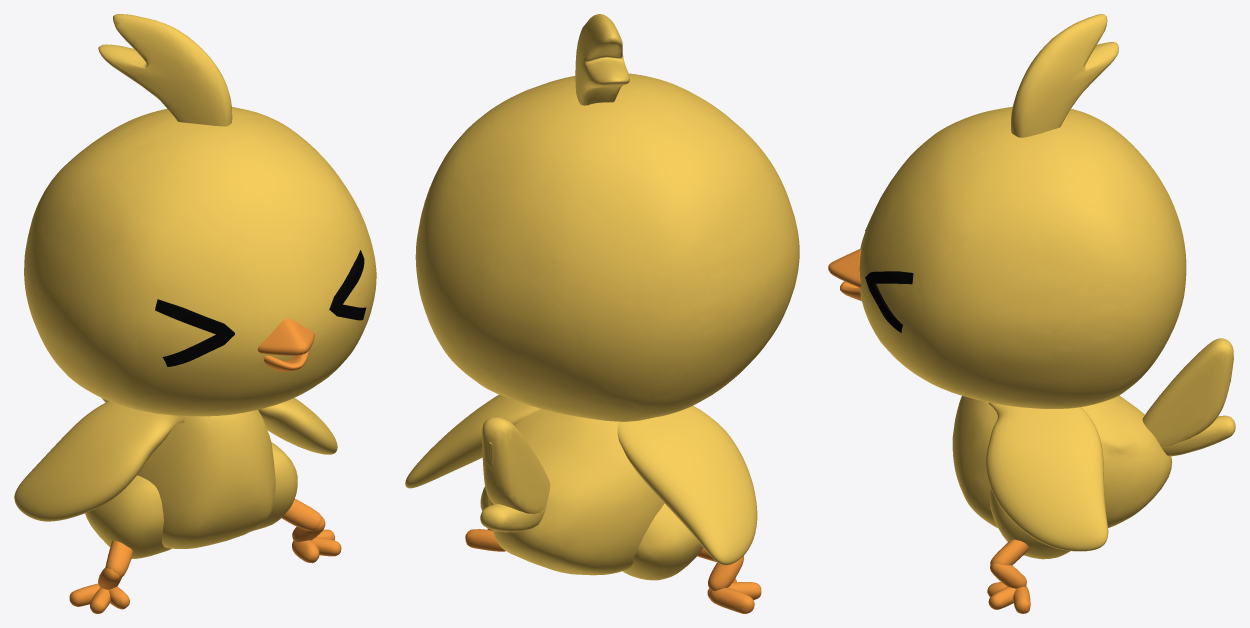
The model's file is piyokichi.glb.
3 renders of one model, left to right at view 1: azimuth 30°, elevation 25°; view 2: azimuth 150°, elevation 25°; view 3: azimuth 270°, elevation 25°, orthographic. The views are drawn at different scales.
Visible parts, largest first — view 1: Head, Body, Wing_L, Leg_L, Leg_R, Wing_R; view 2: Head, Body, Wing_L, Leg_L, Wing_R, Leg_R; view 3: Head, Body, Wing_R, Leg_R.
Boxes of the visible parts, x1,y1,x2,y2 form: Head: [24, 14, 376, 416]; Body: [102, 398, 275, 548]; Wing_L: [14, 401, 184, 521]; Leg_L: [69, 475, 171, 613]; Leg_R: [253, 442, 341, 563]; Wing_R: [258, 398, 337, 454]; Head: [415, 14, 799, 421]; Body: [480, 409, 664, 575]; Wing_L: [617, 406, 757, 565]; Leg_L: [622, 503, 761, 613]; Wing_R: [405, 394, 540, 488]; Leg_R: [465, 487, 505, 551]; Head: [828, 14, 1186, 408]; Body: [952, 338, 1235, 528]; Wing_R: [986, 402, 1108, 551]; Leg_R: [987, 489, 1070, 613].
Size of the model in its own units: 0.639 by 1.11 by 0.7854.
